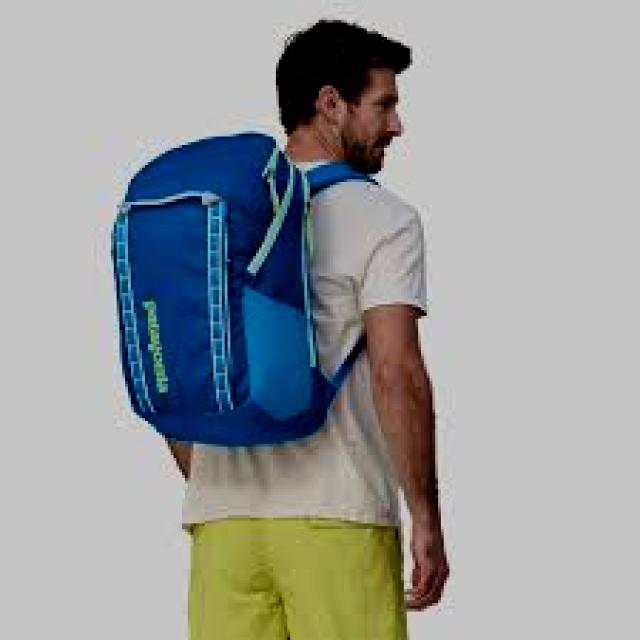backpack: (109, 132, 379, 448)
